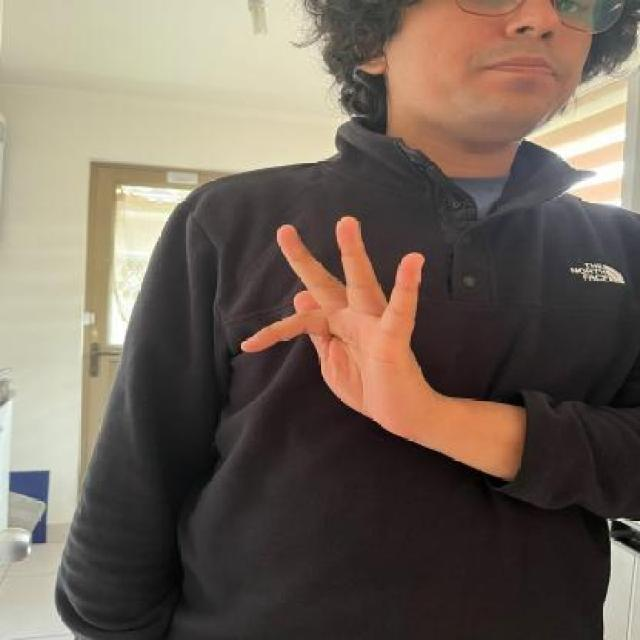F: (231, 212, 443, 440)
